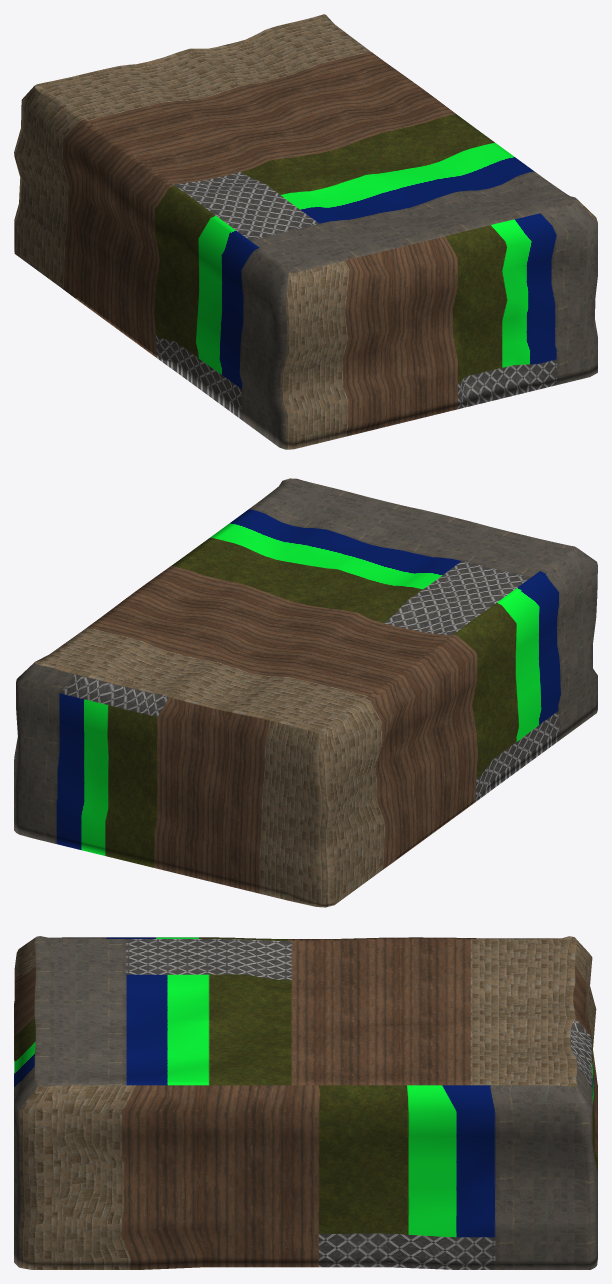
The model's file is hedge.fbx.
The picture shows the model from 3 angles, top to bottom: view 1: azimuth 30°, elevation 25°; view 2: azimuth 150°, elevation 25°; view 3: azimuth 270°, elevation 25°; orthographic projection. The views are drawn at different scales.
Parts seen in each view (by area): view 1: pCube1; view 2: pCube1; view 3: pCube1.
Boxes of the visible parts, bbox=[...] form: pCube1: bbox=[14, 14, 597, 449]; pCube1: bbox=[14, 478, 597, 907]; pCube1: bbox=[14, 936, 597, 1269].
Size of the model in its own units: 808 by 401 by 1200.
